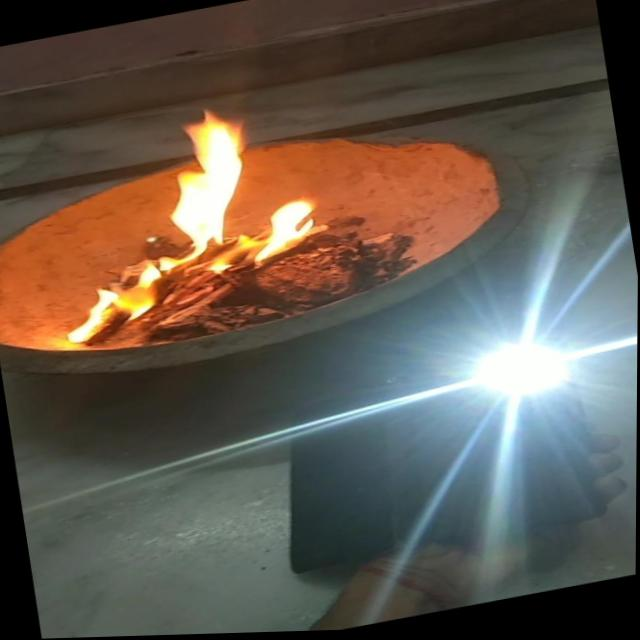fire: (40, 94, 352, 344)
